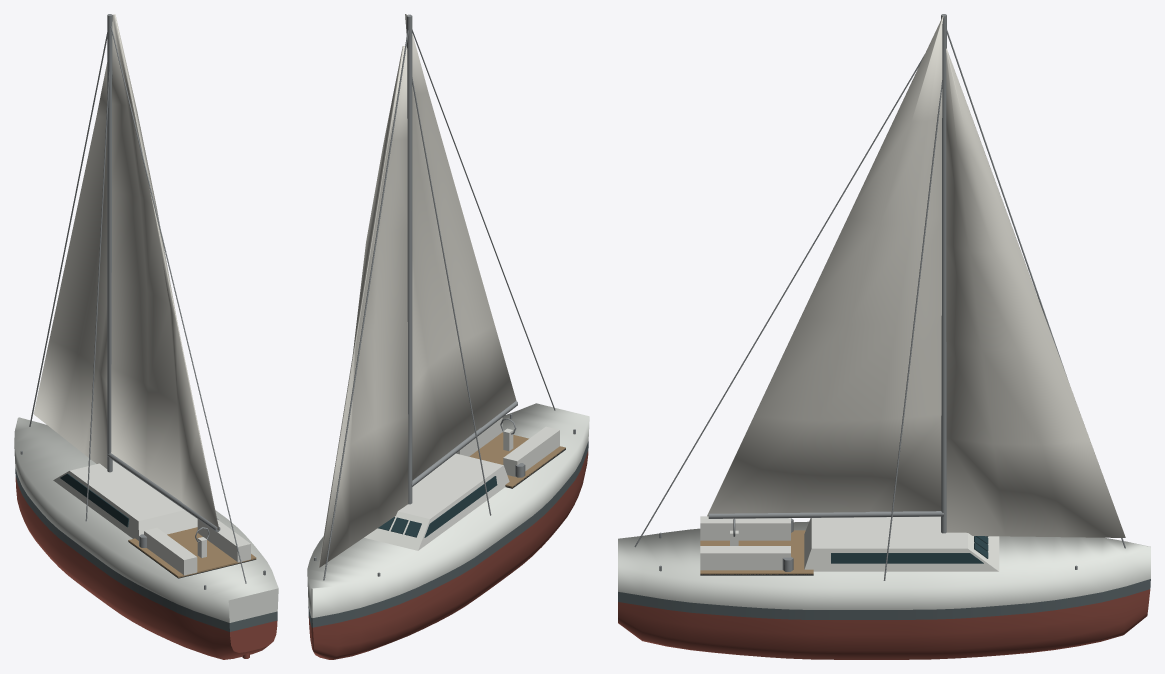
Rendered from sailboat-low.glb.
The picture shows the model from 3 angles, left to right: view 1: azimuth 30°, elevation 25°; view 2: azimuth 150°, elevation 25°; view 3: azimuth 270°, elevation 25°; orthographic projection. The views are drawn at different scales.
Visible parts, largest first — view 1: canvas, hull, bottom, white, metal, stripe, teak, window; view 2: canvas, hull, bottom, white, metal, stripe, window, teak; view 3: canvas, hull, bottom, white, metal, stripe, window, teak.
Part boxes in pixels (x1,y1,x2,y2): canvas: (33,14,219,530); hull: (14,417,278,622); bottom: (15,477,277,659); white: (53,460,250,575); metal: (20,14,265,589); stripe: (15,468,277,631); teak: (128,527,256,577); window: (60,473,129,527); canvas: (318,14,516,567); hull: (307,403,589,617); bottom: (308,451,588,659); white: (364,417,559,550); metal: (314,14,575,580); stripe: (308,441,588,627); window: (378,476,497,537); teak: (469,432,565,487); canvas: (707,15,1125,537); hull: (618,521,1150,609); bottom: (618,589,1150,659); white: (700,516,999,571); metal: (634,14,1125,580); stripe: (618,579,1150,619); window: (831,536,988,563); teak: (700,530,813,574).
Size of the model in its own units: 5.5 by 24.8 by 18.8.
